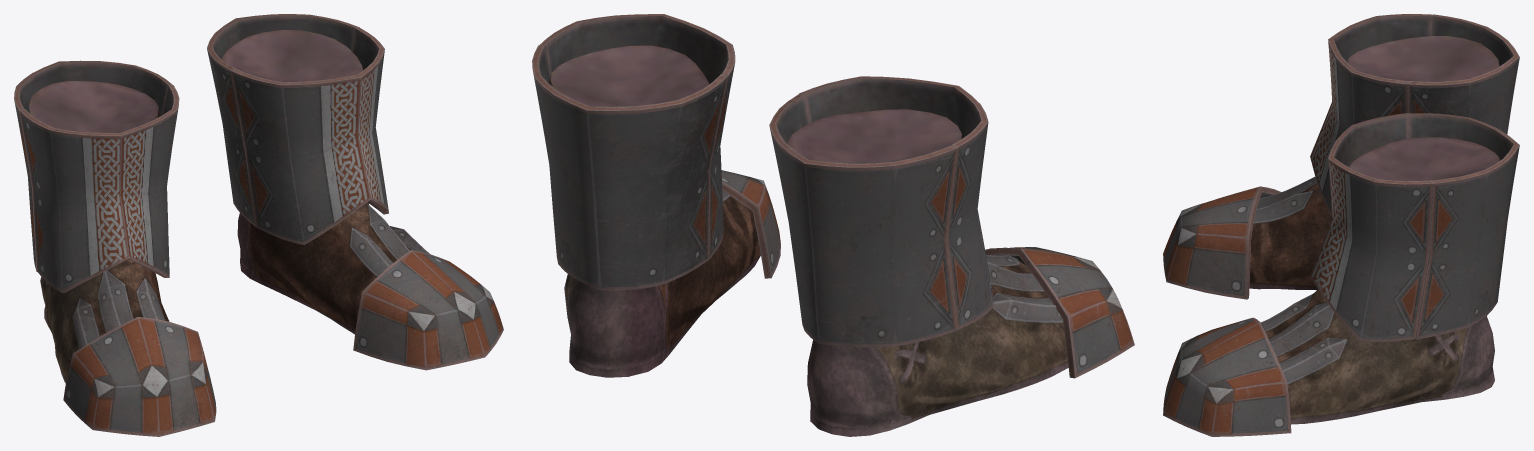
Rendered from sk_dwarf_dain_boots_med_b.fbx.
3 views of the same model, side by side, from view 1: azimuth 30°, elevation 25°; view 2: azimuth 150°, elevation 25°; view 3: azimuth 270°, elevation 25° (orthographic). The views are drawn at different scales.
Parts seen in each view (by area): view 1: sk_dwarf_dain_boots_med_b; view 2: sk_dwarf_dain_boots_med_b; view 3: sk_dwarf_dain_boots_med_b.
Boxes of the visible parts, box(x1,y1,x2,y2) form: sk_dwarf_dain_boots_med_b: box(14, 14, 503, 436); sk_dwarf_dain_boots_med_b: box(532, 14, 1134, 436); sk_dwarf_dain_boots_med_b: box(1163, 14, 1519, 436).
Bounding box in the file's own units: 0.5801 × 0.4277 × 0.3159.
1 material, 1 textured.
